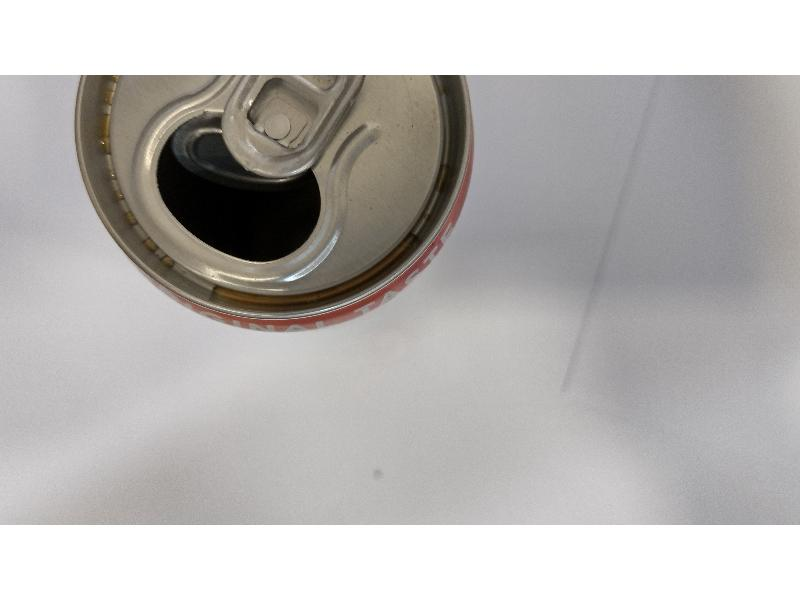can: (60, 73, 498, 349)
